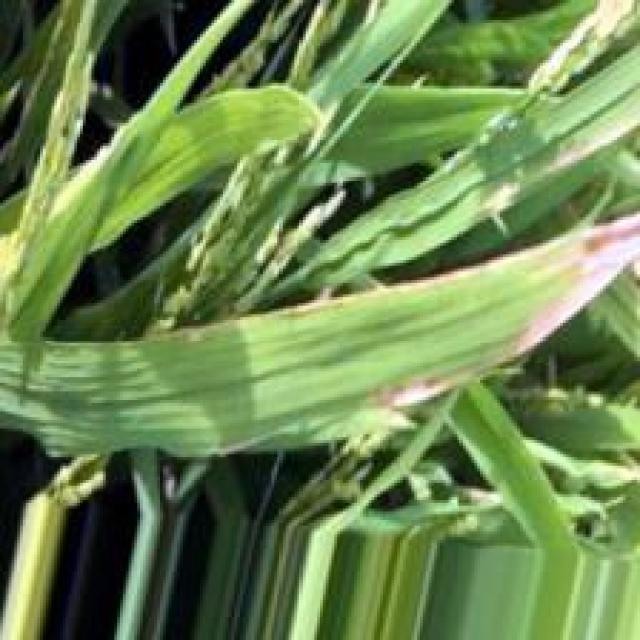Unhealthy: (280, 235, 569, 315), (517, 210, 640, 356), (368, 378, 455, 410)
